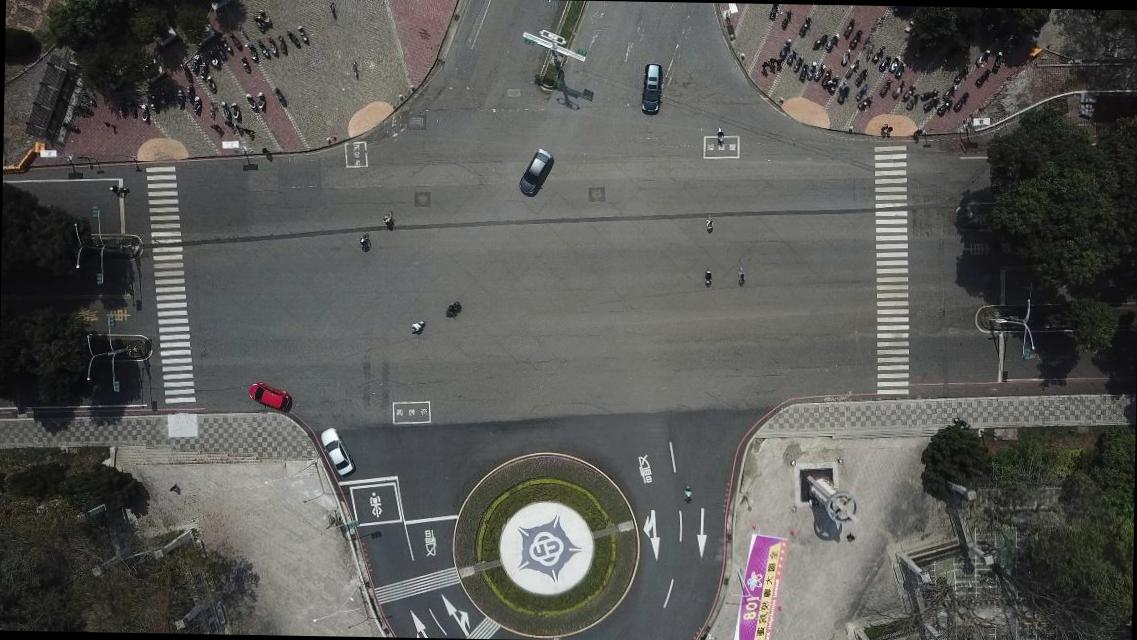vehicle: (318, 423, 356, 478), (518, 148, 555, 198), (245, 381, 295, 414), (638, 62, 664, 116)
